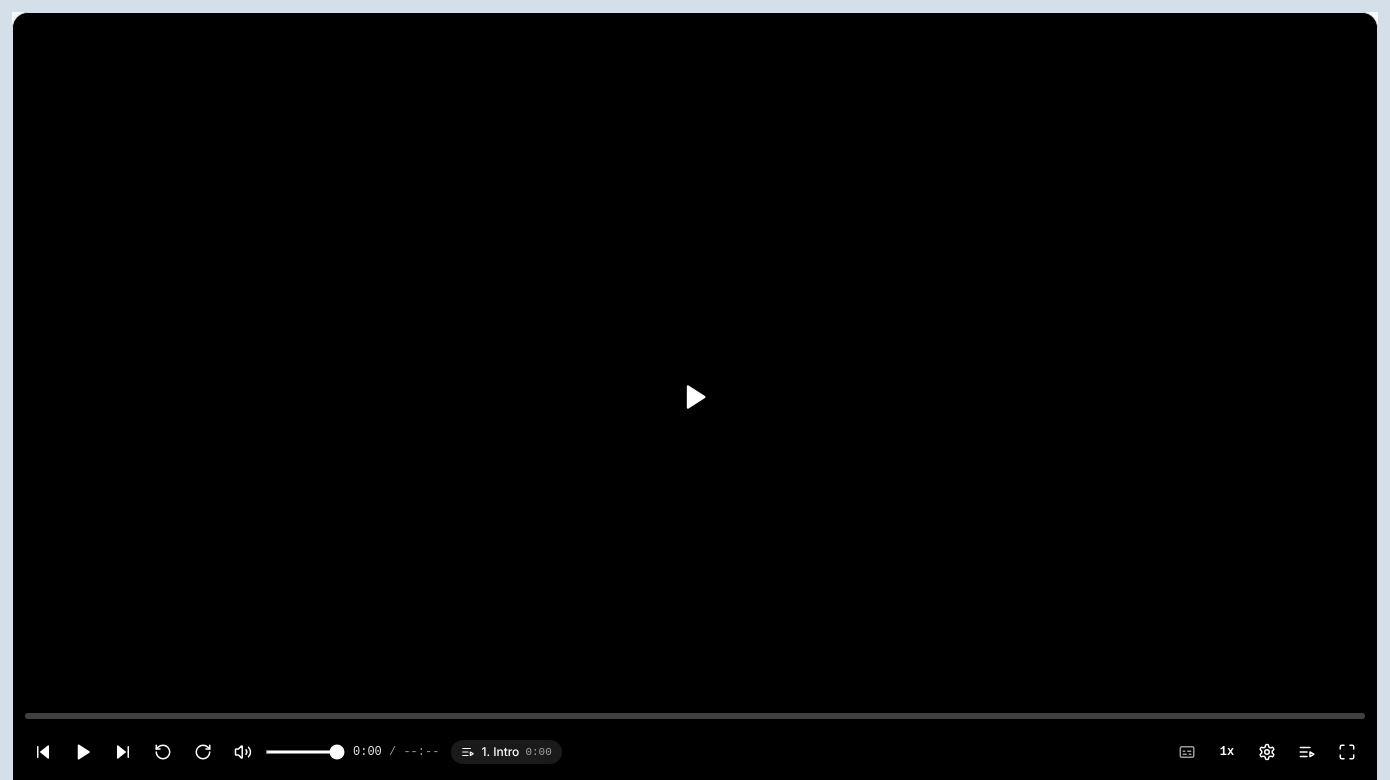
Test: NowPlaying with the custom player › surfaces chapters parsed from the description in the player menu
Click the button named "Chapters".
click(1307, 752)  # box [1289,734,1325,770]
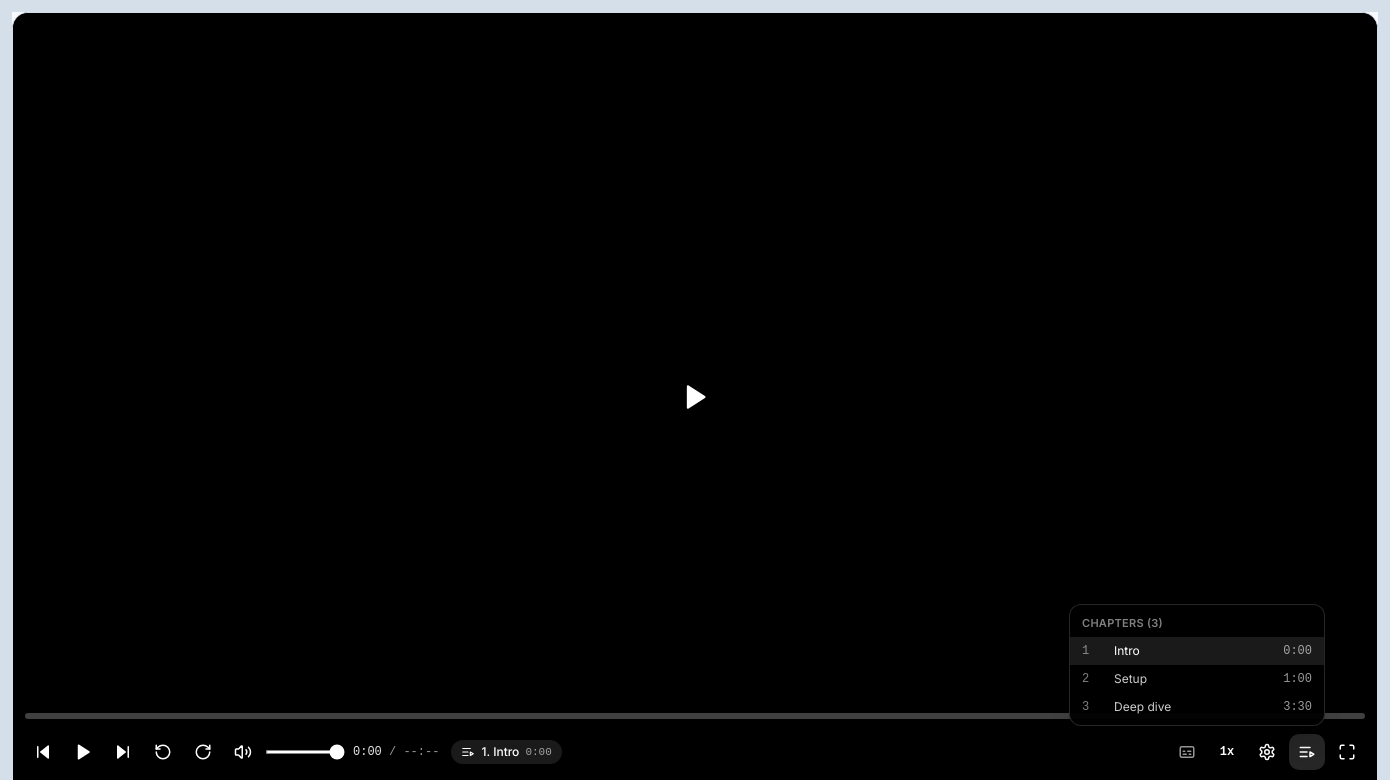
Check: the text "Chapters (3)" is shown, box [1082,616,1163,630]
Check: the text "Intro" is shown, box [1114,643,1140,658]
Check: the text "Setup" is shown, box [1114,671,1147,686]
